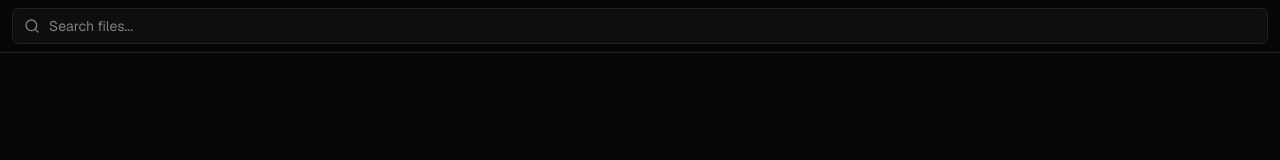
Test: FileNameSearch › Search input › should show clear button when query is not empty
Type something
Type "test" into the field with placeholder "Search files...".
click(640, 26); type("test")  # box [12, 8, 1268, 44]
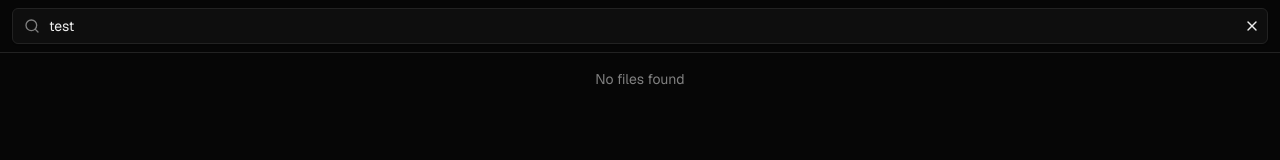
Check: the button named "clear" is shown, box [1240, 14, 1264, 38]
